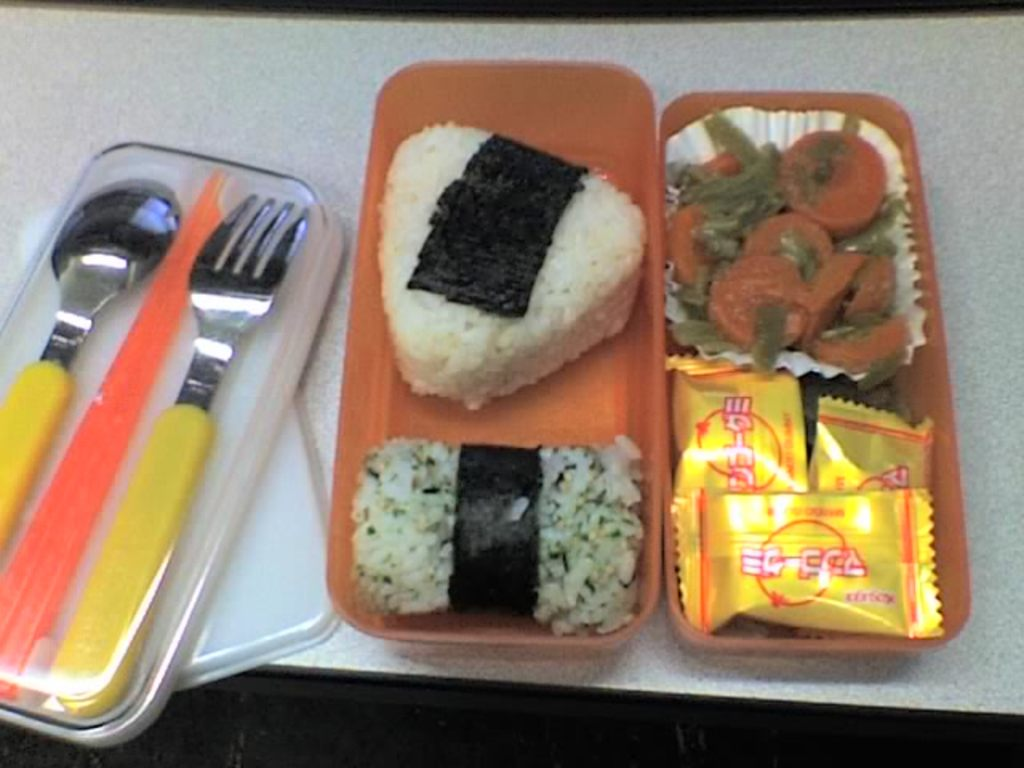fork: (48, 193, 309, 720)
